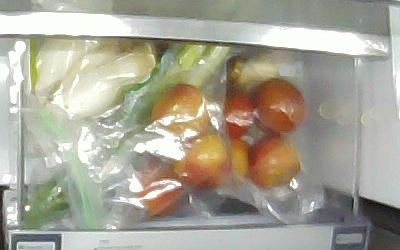prune_vinyl: (150, 82, 210, 140), (174, 133, 231, 190), (252, 76, 305, 134), (247, 133, 301, 188), (136, 158, 184, 215), (221, 89, 256, 139), (226, 137, 252, 181)
